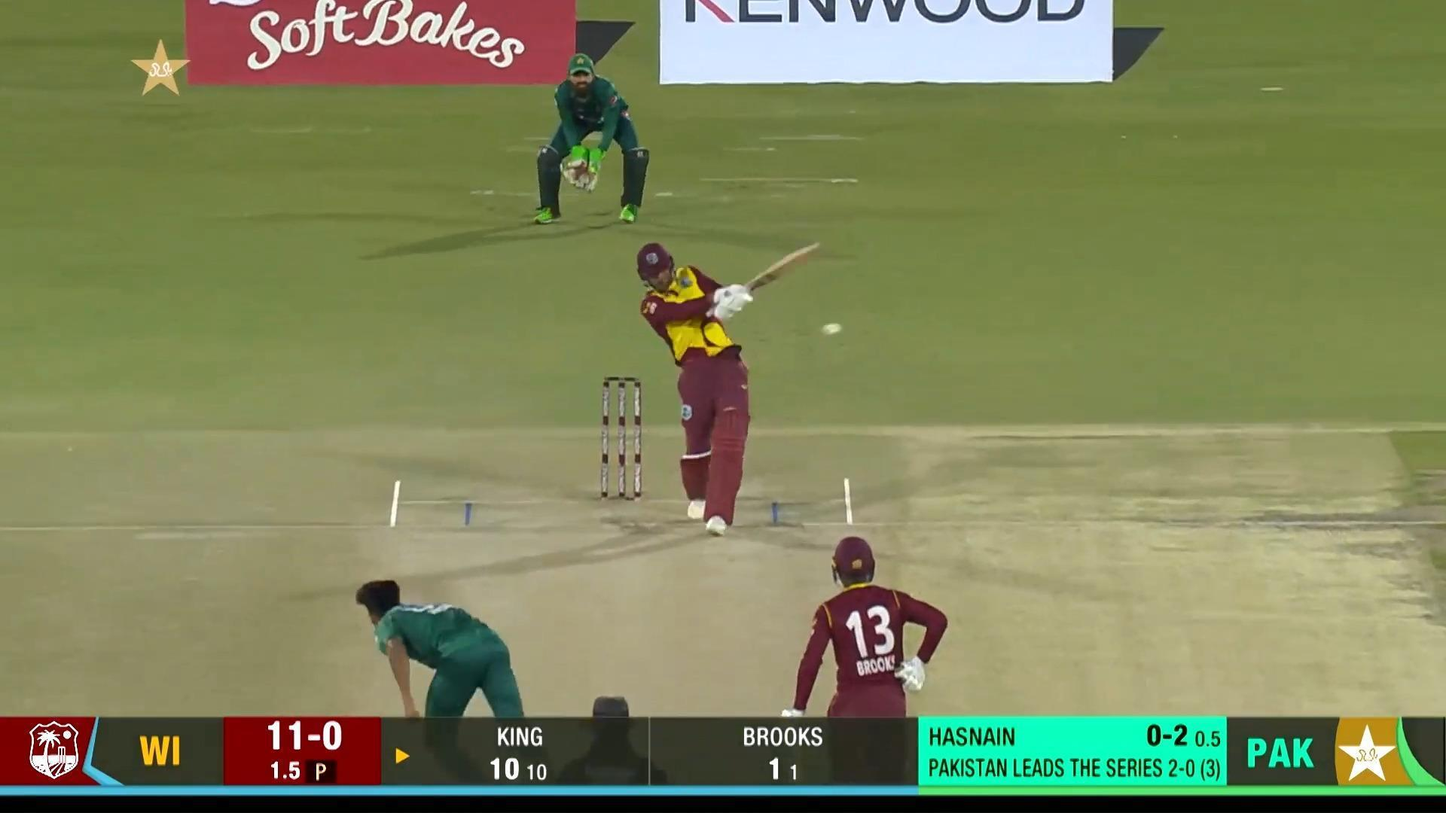BM 1: (637, 243, 821, 536)
BO: (354, 578, 560, 813)
